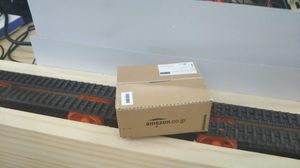box1: (113, 59, 213, 138)
